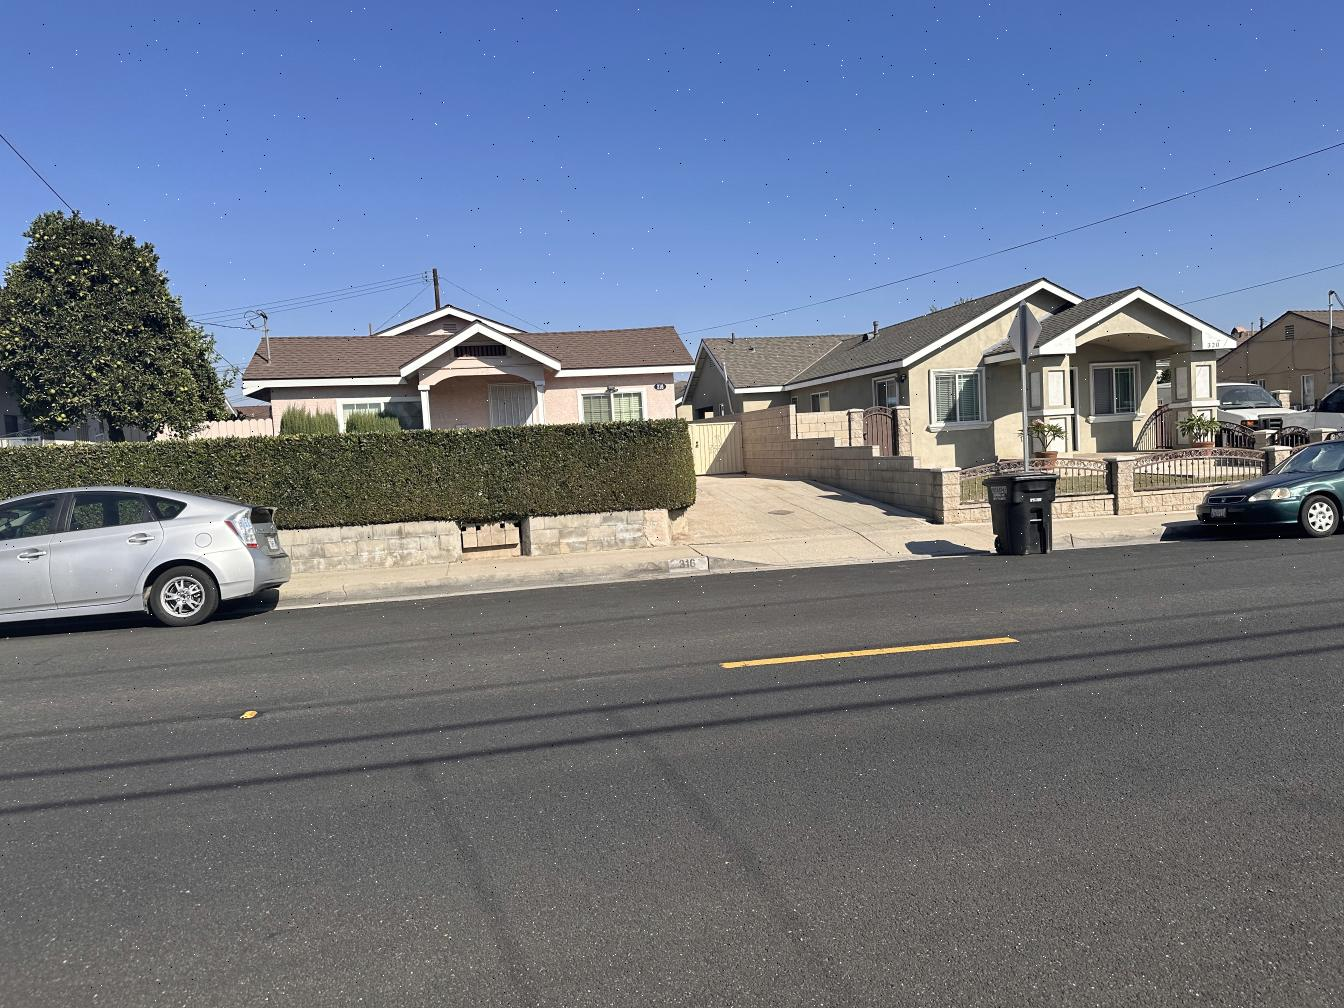curbs-laRr: (293, 574, 457, 613), (461, 563, 603, 594), (601, 554, 713, 586), (1069, 524, 1166, 547)
